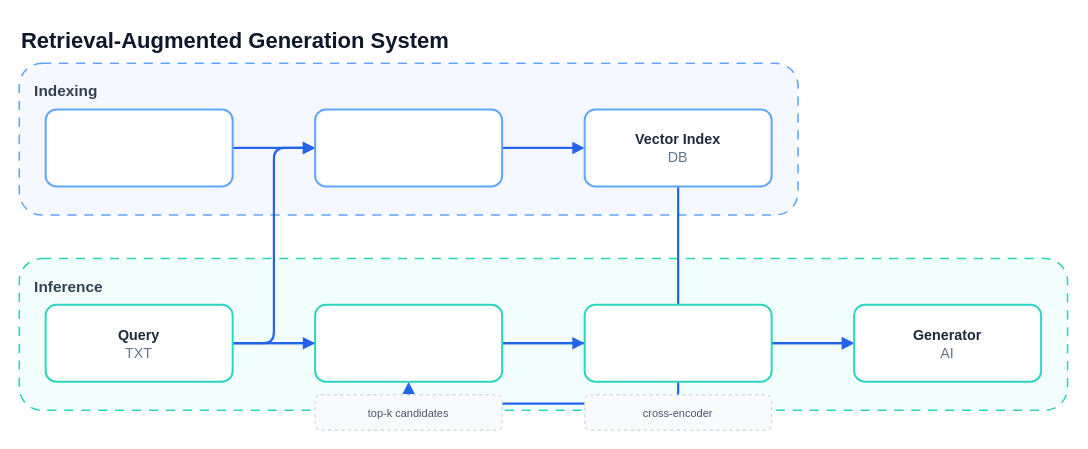
Image size: 1088x449. Some labels were removed from this diagram. Here are the shapes that lost their labels. From the top down, the centre of each, then its label:
At pixel 138 147: "Corpus DOC".
At pixel 408 147: "Encoder VEC".
At pixel 408 342: "Retriever FIND".
At pixel 677 342: "Reranker SCORE".
